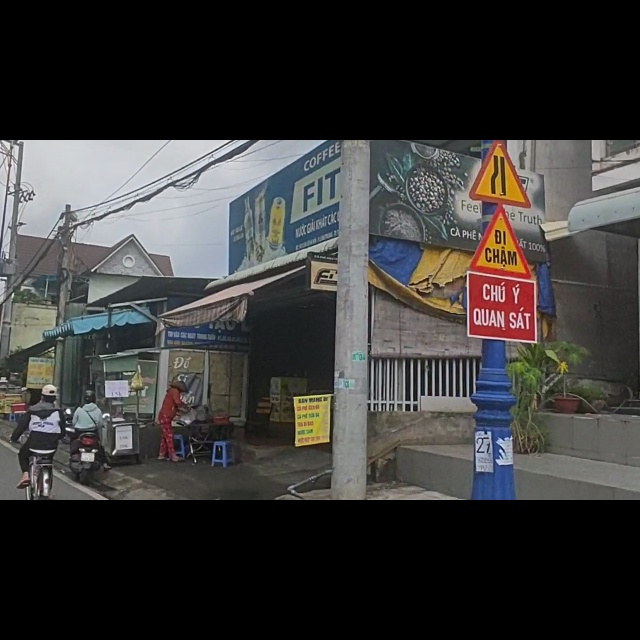Đi chậm: (467, 203, 534, 279)
Đường bị hẹp bên trái: (465, 140, 532, 206)
